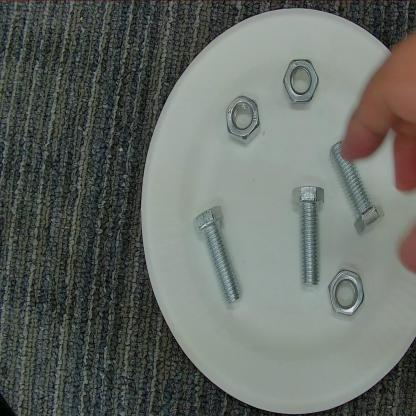FOD: (187, 204, 247, 310), (330, 136, 387, 242), (288, 181, 328, 294), (326, 267, 378, 325), (224, 89, 271, 150), (280, 56, 322, 114)
